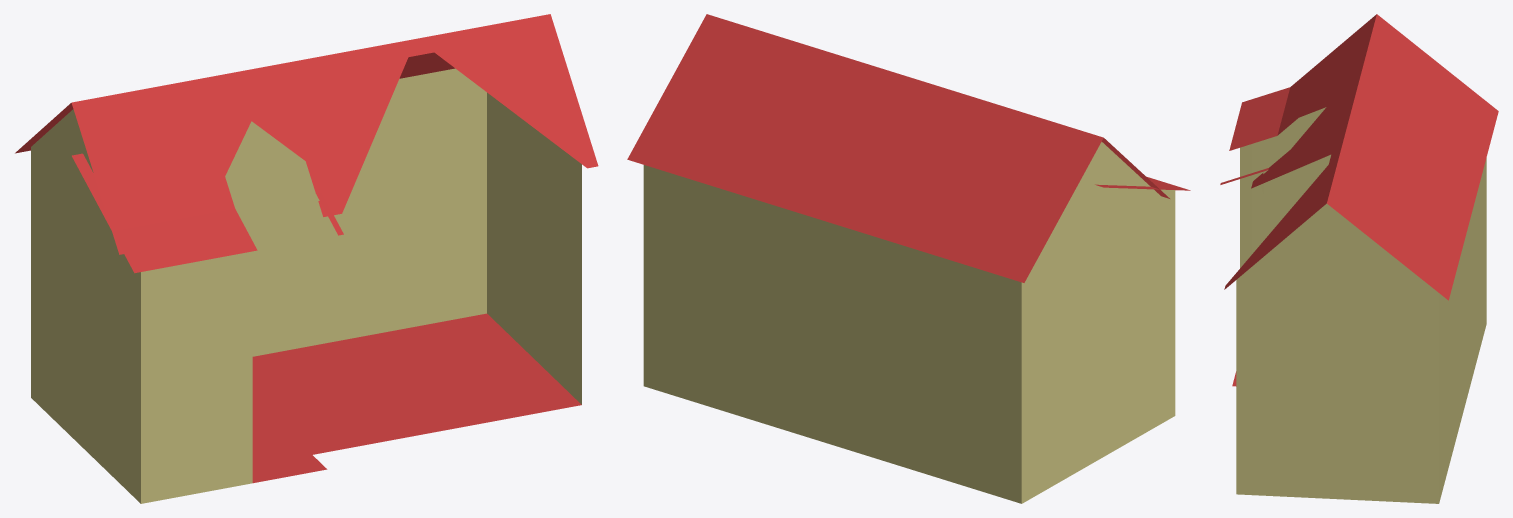
3 views of the same model, side by side, from view 1: azimuth 30°, elevation 25°; view 2: azimuth 150°, elevation 25°; view 3: azimuth 270°, elevation 25° (orthographic). The views are drawn at different scales.
Bounding box in the file's own units: 21.96 × 12.82 × 15.23.
